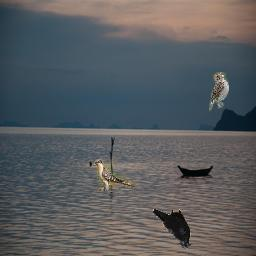Crow: (153, 209, 191, 249)
Cuckoo: (94, 159, 134, 191)
Sparrow: (209, 72, 229, 112)
